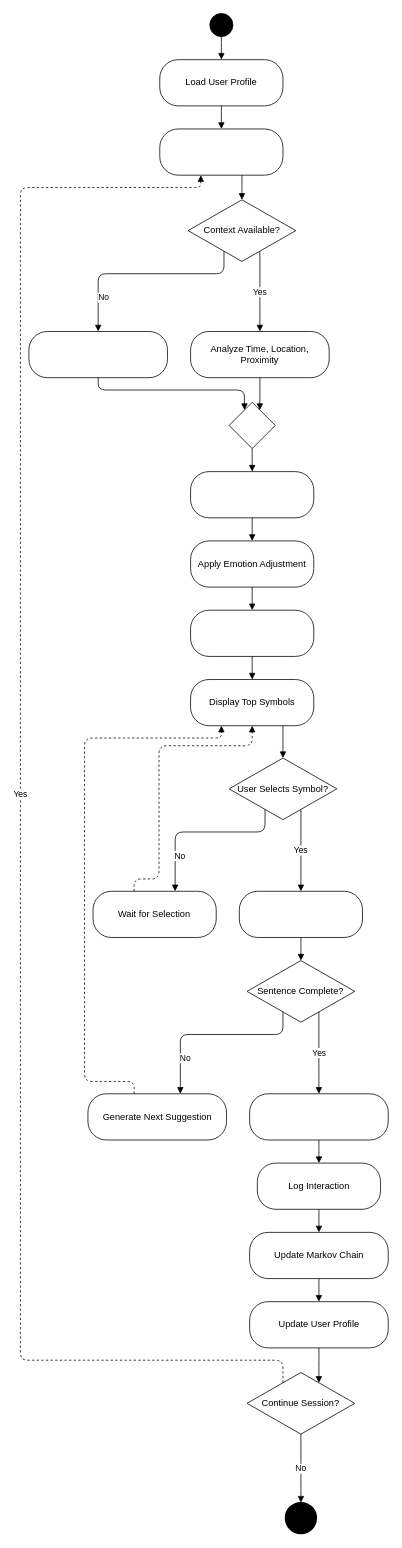
The diagram is 402 pixels wide and 1548 high, and some of its shapes have lost their labels. Each missing label, with the centre of its shape:
"Append to Sentence" goes at [301,914].
"Collect Context Signals" goes at [221,151].
"Rank Recommendations" goes at [252,632].
"Score Symbols" goes at [252,494].
"Synthesize Speech" goes at [318,1116].
"Use Default Context" goes at [97,354].
